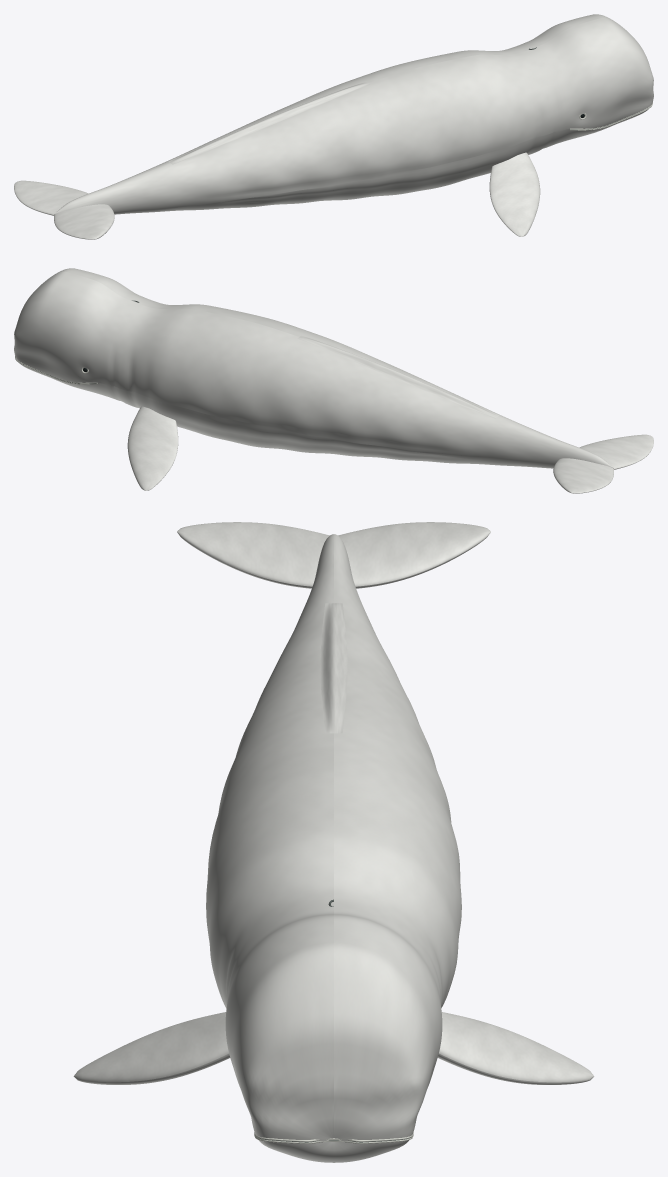
File: beluga-corrected-v0658.glb
The picture shows the model from 3 angles, top to bottom: view 1: azimuth 30°, elevation 25°; view 2: azimuth 150°, elevation 25°; view 3: azimuth 270°, elevation 25°; orthographic projection. The views are drawn at different scales.
Parts seen in each view (by area): view 1: Resculpted CC0 beluga adult exterior, Broad rounded pectoral flipper 1, Horizontal low-aspect-ratio fluke 1, Horizontal low-aspect-ratio fluke -1, Low tough dorsal ridge without a dorsal fin; view 2: Resculpted CC0 beluga adult exterior, Broad rounded pectoral flipper -1, Horizontal low-aspect-ratio fluke -1, Horizontal low-aspect-ratio fluke 1, Low tough dorsal ridge without a dorsal fin; view 3: Resculpted CC0 beluga adult exterior, Horizontal low-aspect-ratio fluke -1, Horizontal low-aspect-ratio fluke 1, Broad rounded pectoral flipper -1, Broad rounded pectoral flipper 1, Low tough dorsal ridge without a dorsal fin.
Part boxes in pixels (x1,y1,x2,y2): Resculpted CC0 beluga adult exterior: [54, 14, 653, 214]; Broad rounded pectoral flipper 1: [489, 152, 540, 236]; Horizontal low-aspect-ratio fluke 1: [54, 204, 114, 239]; Horizontal low-aspect-ratio fluke -1: [14, 180, 88, 215]; Low tough dorsal ridge without a dorsal fin: [168, 81, 370, 164]; Resculpted CC0 beluga adult exterior: [14, 268, 613, 468]; Broad rounded pectoral flipper -1: [127, 406, 178, 490]; Horizontal low-aspect-ratio fluke -1: [553, 458, 613, 493]; Horizontal low-aspect-ratio fluke 1: [579, 434, 653, 469]; Low tough dorsal ridge without a dorsal fin: [297, 335, 499, 418]; Resculpted CC0 beluga adult exterior: [206, 534, 461, 1162]; Horizontal low-aspect-ratio fluke -1: [338, 522, 490, 588]; Horizontal low-aspect-ratio fluke 1: [177, 522, 329, 588]; Broad rounded pectoral flipper -1: [437, 1012, 594, 1084]; Broad rounded pectoral flipper 1: [73, 1012, 230, 1084]; Low tough dorsal ridge without a dorsal fin: [320, 603, 347, 733].
Bounding box in the file's own units: 3.95 × 0.8638 × 1.49.
Materials: 7 (2 with a texture image).
